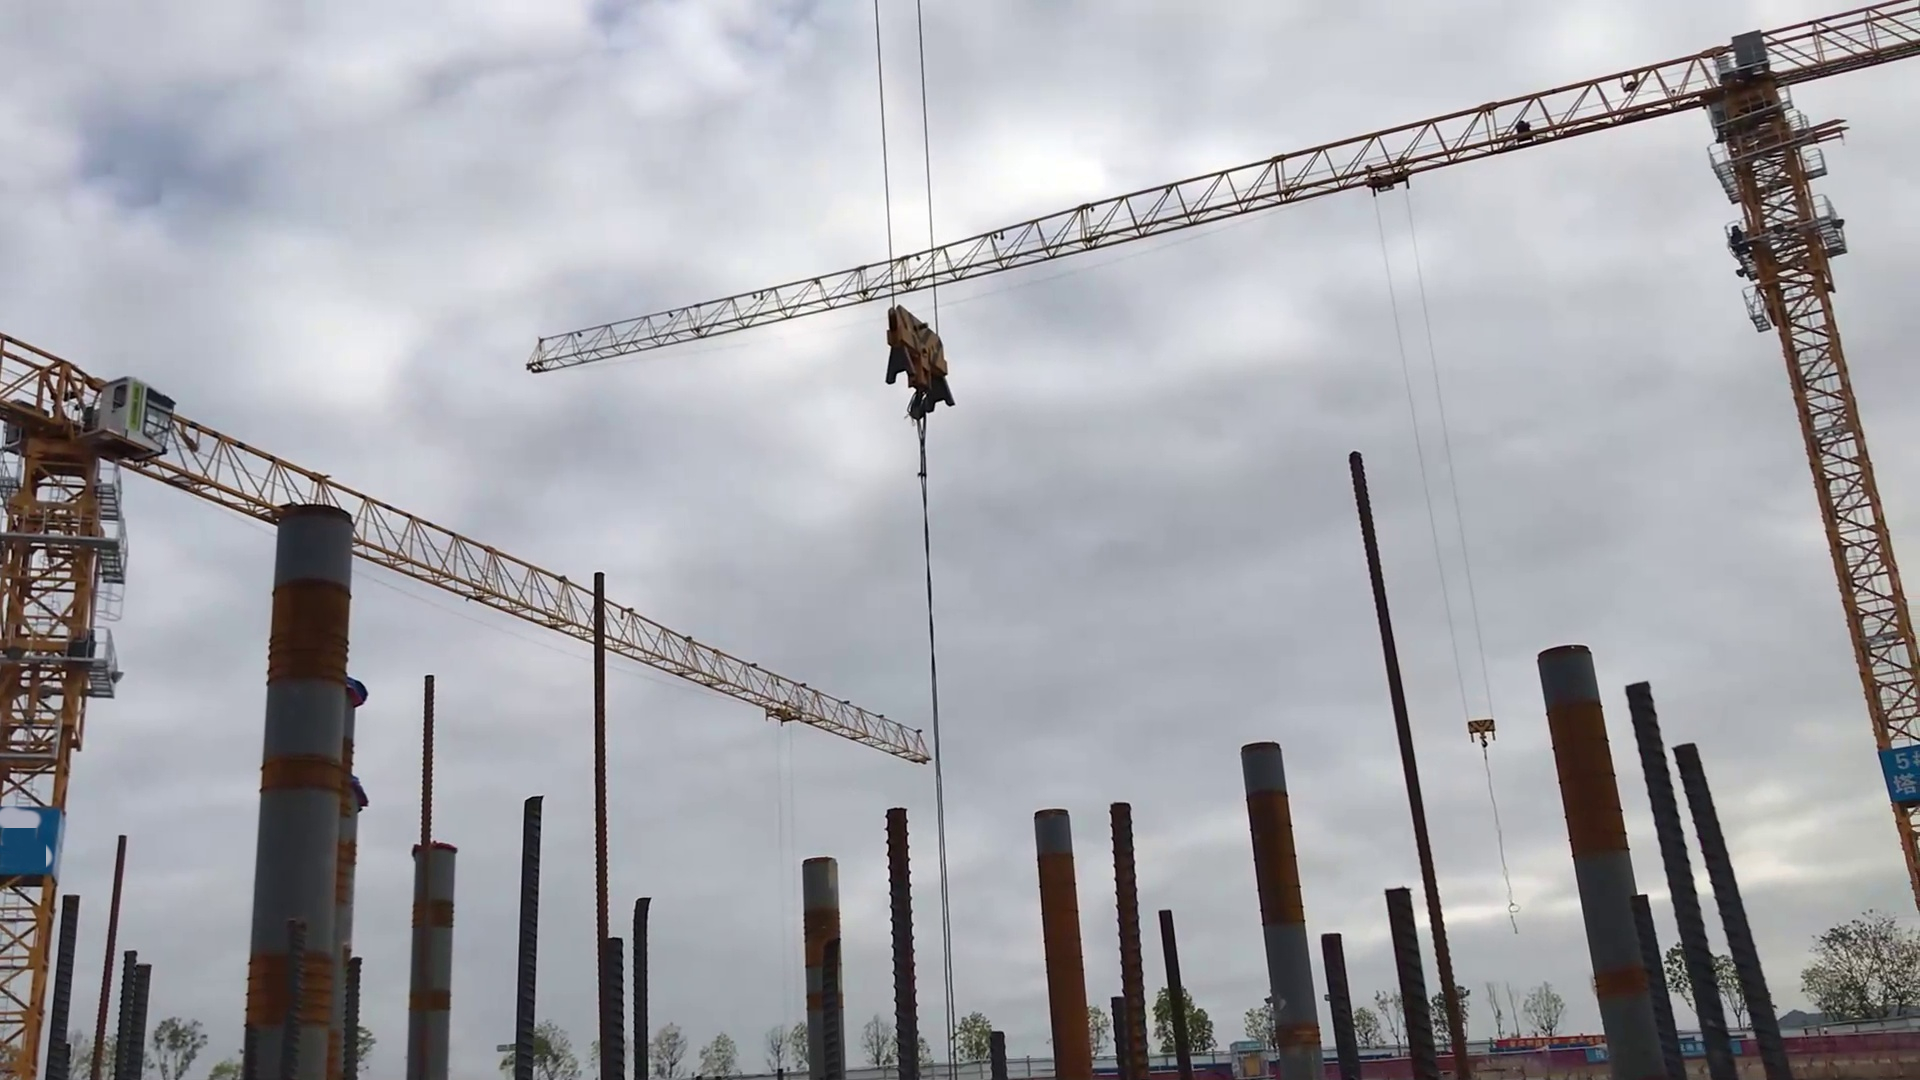hook: (882, 301, 957, 431)
